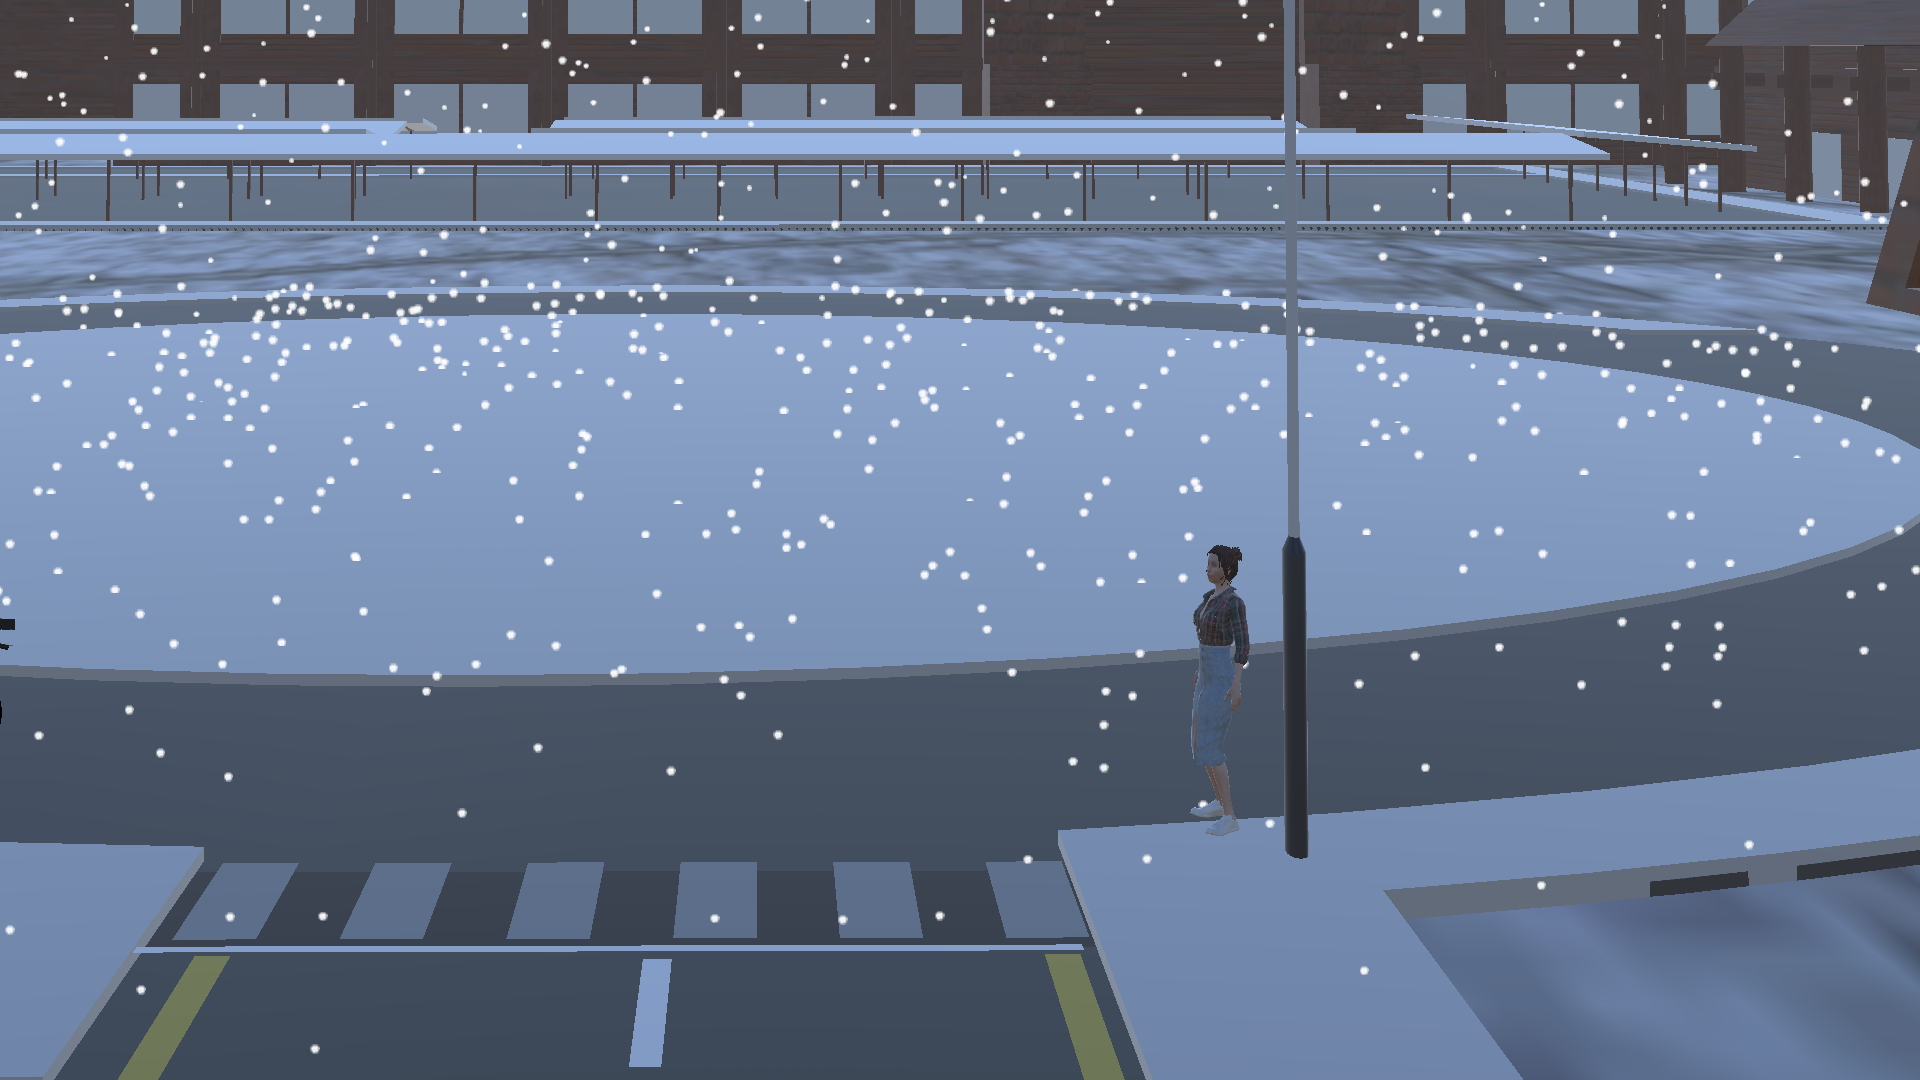pedestrian: (1177, 539, 1260, 839)
